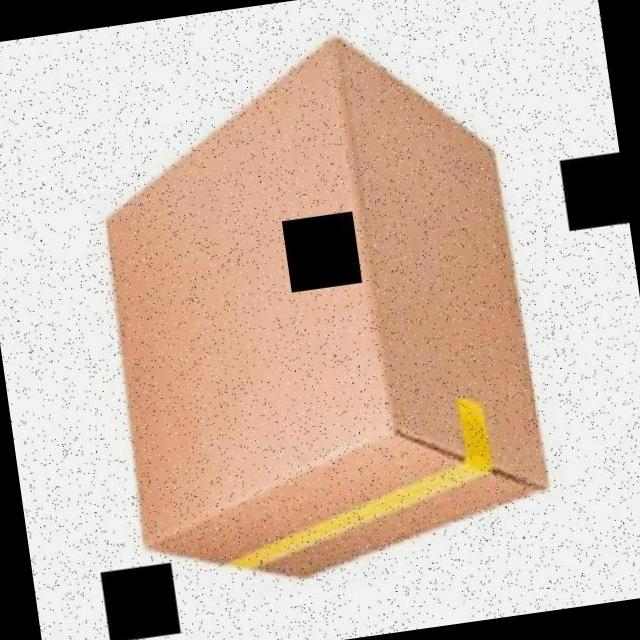box: (60, 6, 587, 601)
